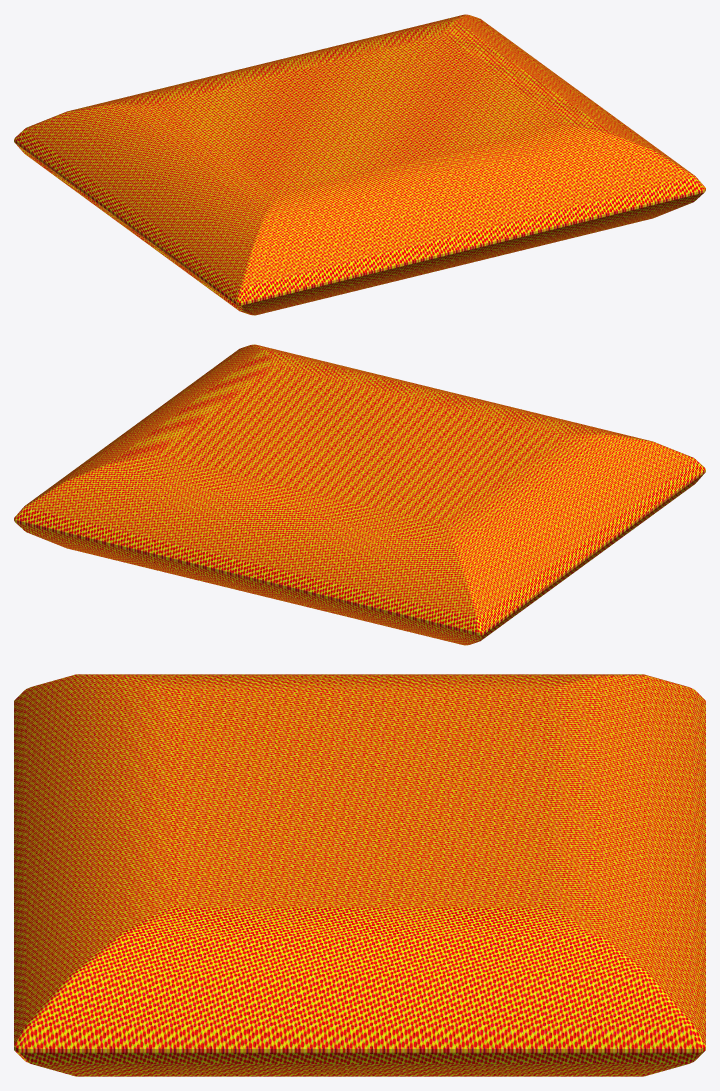
File: pillow.fbx
3 views of the same model, one above another, from view 1: azimuth 30°, elevation 25°; view 2: azimuth 150°, elevation 25°; view 3: azimuth 270°, elevation 25° (orthographic). The views are drawn at different scales.
Parts seen in each view (by area): view 1: pillow; view 2: pillow; view 3: pillow.
Part boxes in pixels (<box>): pillow: <box>14,14,705,315</box>; pillow: <box>14,344,705,645</box>; pillow: <box>14,674,705,1076</box>.
Bounding box in the file's own units: 16.92 × 3.45 × 14.12.
